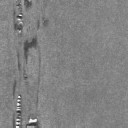slag inclusion: (23, 34, 42, 108), (12, 94, 40, 128), (12, 0, 32, 30), (16, 48, 29, 80), (37, 16, 50, 30), (12, 76, 18, 96), (18, 34, 22, 39)
